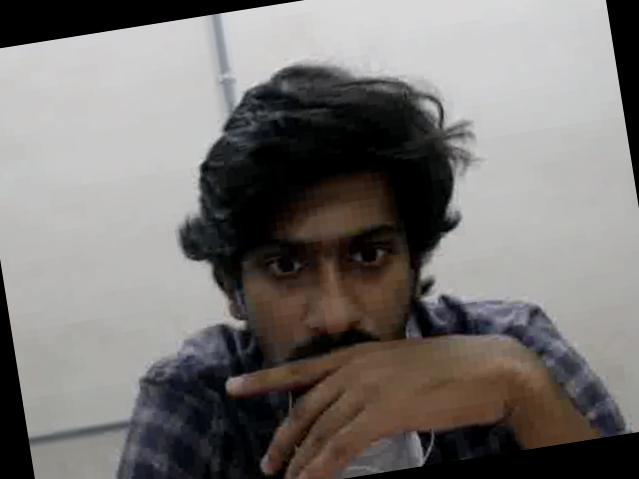bosan: (234, 165, 427, 386)
